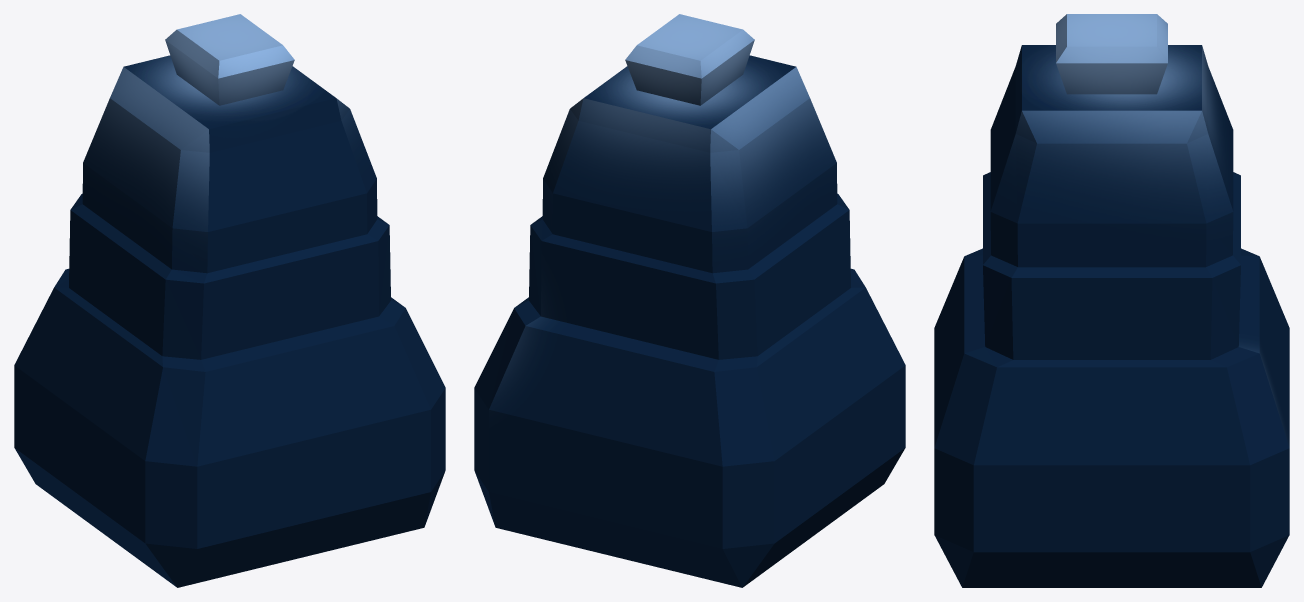
Rendered from wall.obj.
The picture shows the model from 3 angles, left to right: view 1: azimuth 30°, elevation 25°; view 2: azimuth 150°, elevation 25°; view 3: azimuth 270°, elevation 25°; orthographic projection. The views are drawn at different scales.
Visible parts, largest first — view 1: Cube; view 2: Cube; view 3: Cube.
Part boxes in pixels (x1,y1,x2,y2): Cube: [14, 14, 445, 587]; Cube: [474, 14, 905, 587]; Cube: [934, 14, 1289, 587].
Bounding box in the file's own units: 1.92 × 2.85 × 1.86.
Materials: 1 (1 with a texture image).
